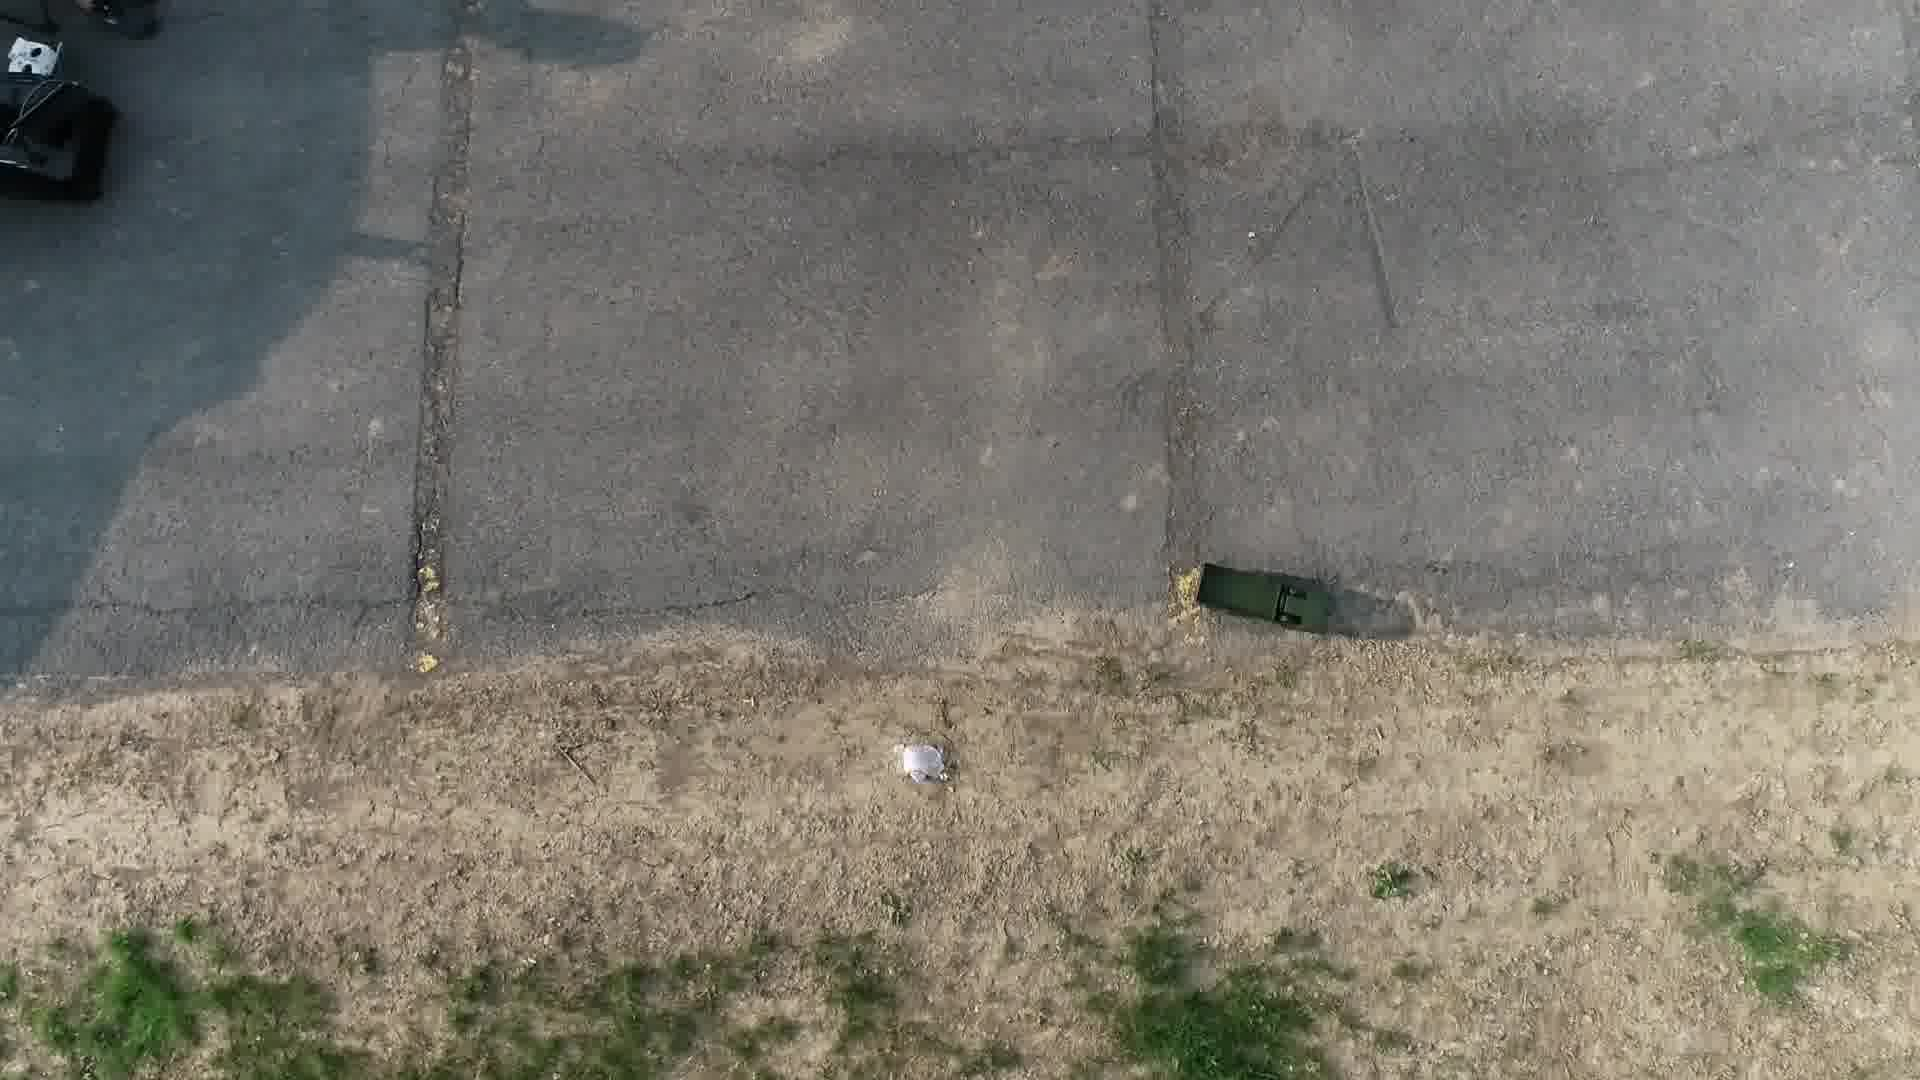transporter9: (1189, 558, 1335, 644)
